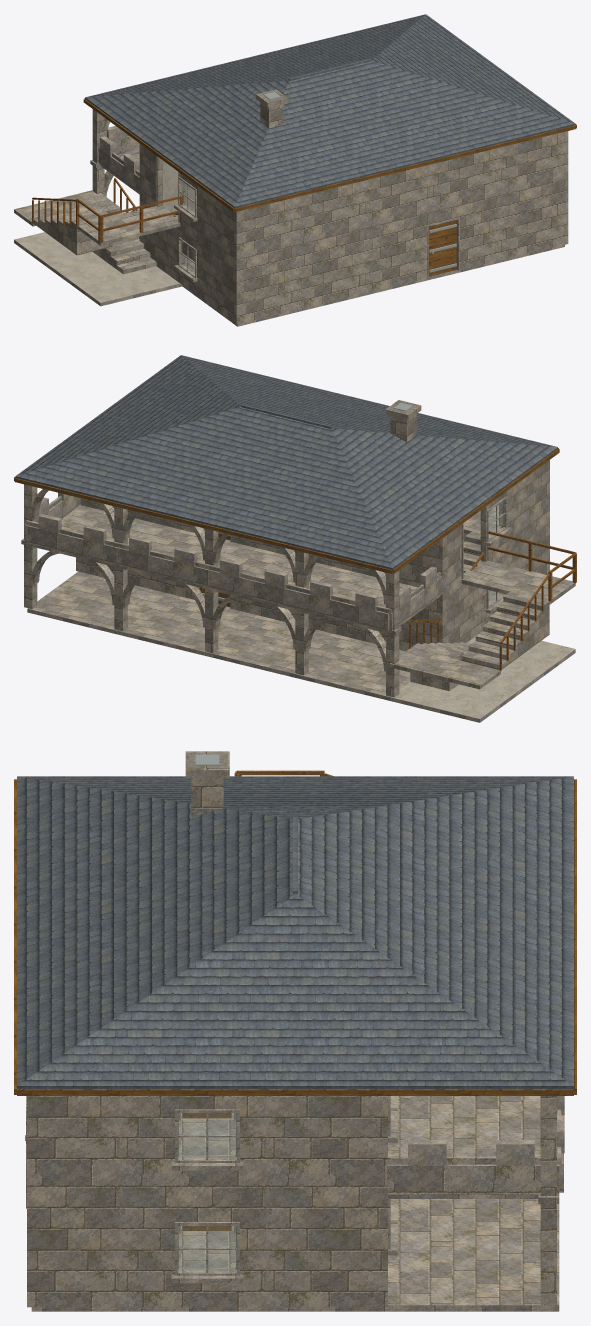
Rendered from castle-commanders-house.gltf.
3 views of the same model, one above another, from view 1: azimuth 30°, elevation 25°; view 2: azimuth 150°, elevation 25°; view 3: azimuth 270°, elevation 25° (orthographic). The views are drawn at different scales.
Visible parts, largest first — view 1: roof-L2-shingle, exterior-L0-stone, exterior-L1-stone, stairs-L0-stone, floor-L0-plaster, roof-trim-L2-trim, walkway-L1-stone, floor-L0-stone, roof-parapet-L1-stone, datum-band-L0-stone, door-L0-door, guards-L1-wood (+7 smaller); view 2: roof-L2-shingle, floor-L0-stone, roof-parapet-L1-stone, exterior-L0-stone, stairs-L0-stone, floor-L1-stone, exterior-L1-stone, structure-L0-stone, floor-L0-plaster, structure-L1-stone, roof-trim-L2-trim, walkway-L1-stone (+5 smaller); view 3: roof-L2-shingle, exterior-L0-stone, exterior-L1-stone, floor-L0-stone, floor-L1-stone, roof-parapet-L1-stone, roof-trim-L2-trim, datum-band-L0-stone, glazing-L0-glass, glazing-L1-glass, facade-trim-L0-stone, service-L2-stone (+3 smaller).
Part boxes in pixels (box(x1,y1,x2,y2)): roof-L2-shingle: box(85, 14, 575, 208); exterior-L0-stone: box(139, 187, 568, 324); exterior-L1-stone: box(139, 131, 568, 264); stairs-L0-stone: box(14, 190, 194, 274); floor-L0-plaster: box(14, 232, 179, 302); roof-trim-L2-trim: box(83, 98, 576, 211); walkway-L1-stone: box(77, 206, 180, 245); floor-L0-stone: box(14, 209, 564, 326); roof-parapet-L1-stone: box(98, 126, 140, 193); datum-band-L0-stone: box(139, 183, 568, 267); door-L0-door: box(428, 220, 456, 276); guards-L1-wood: box(76, 196, 182, 242); roof-L2-shingle: box(15, 355, 557, 569); floor-L0-stone: box(27, 571, 575, 722); roof-parapet-L1-stone: box(25, 492, 442, 630); exterior-L0-stone: box(76, 519, 549, 651); stairs-L0-stone: box(389, 531, 549, 691); floor-L1-stone: box(27, 505, 498, 633); exterior-L1-stone: box(80, 460, 549, 592); structure-L0-stone: box(21, 538, 401, 697); floor-L0-plaster: box(390, 636, 575, 718); structure-L1-stone: box(24, 484, 399, 630); roof-trim-L2-trim: box(14, 448, 559, 573); walkway-L1-stone: box(461, 560, 575, 604); roof-L2-shingle: box(17, 776, 573, 1088); exterior-L0-stone: box(27, 1201, 387, 1307); exterior-L1-stone: box(27, 1096, 387, 1194); floor-L0-stone: box(31, 1199, 559, 1311); floor-L1-stone: box(179, 1096, 540, 1198); roof-parapet-L1-stone: box(383, 1096, 564, 1194); roof-trim-L2-trim: box(14, 779, 576, 1095); datum-band-L0-stone: box(27, 1194, 387, 1200); glazing-L0-glass: box(178, 1226, 236, 1270); glazing-L1-glass: box(178, 1113, 236, 1157); facade-trim-L0-stone: box(171, 1199, 397, 1283); service-L2-stone: box(185, 751, 229, 816).
Size of the model in its own units: 15.34 by 6.19 by 9.6.
Materials: 8 (6 with a texture image).
